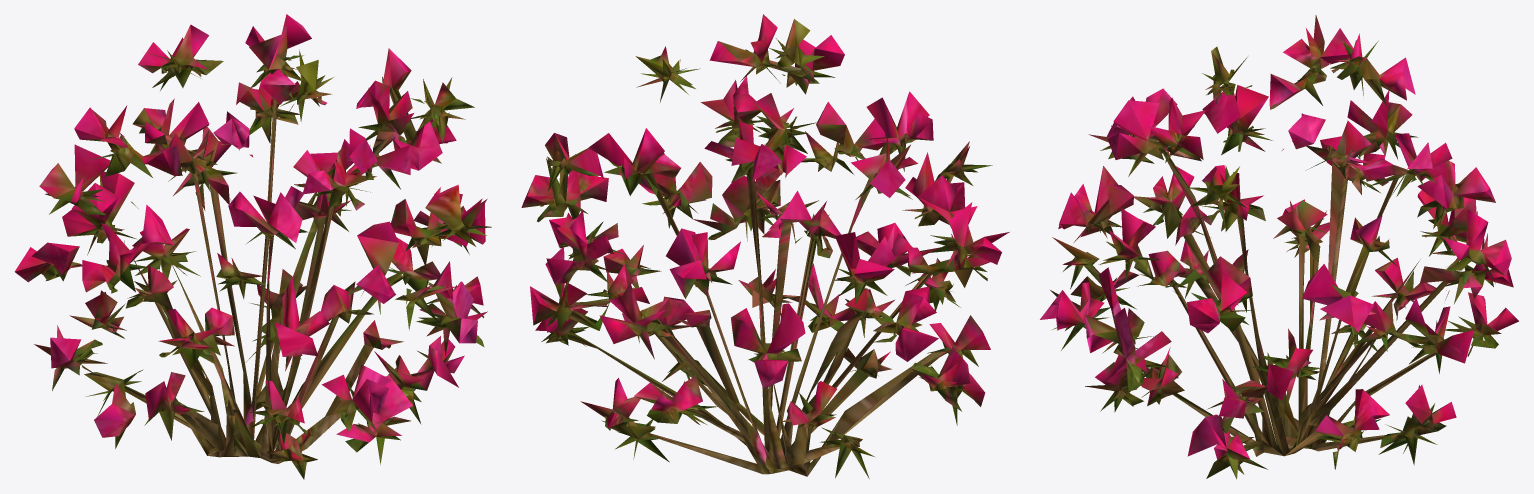
Rendered from arbusto_flor.glb.
3 views of the same model, side by side, from view 1: azimuth 30°, elevation 25°; view 2: azimuth 150°, elevation 25°; view 3: azimuth 270°, elevation 25° (orthographic). The views are drawn at different scales.
Visible parts, largest first — view 1: arbusto_flor; view 2: arbusto_flor; view 3: arbusto_flor.
Part boxes in pixels (x1,y1,x2,y2): arbusto_flor: (14, 14, 491, 479); arbusto_flor: (521, 14, 1009, 478); arbusto_flor: (1040, 15, 1518, 479).
Size of the model in its own units: 1.19 by 1.1 by 1.16.
Materials: 1 (1 with a texture image).
